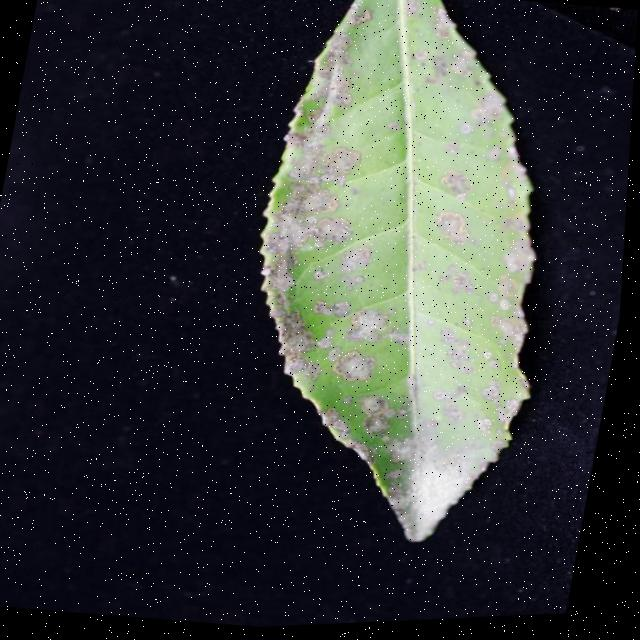Tea red rust: (234, 36, 585, 482)
